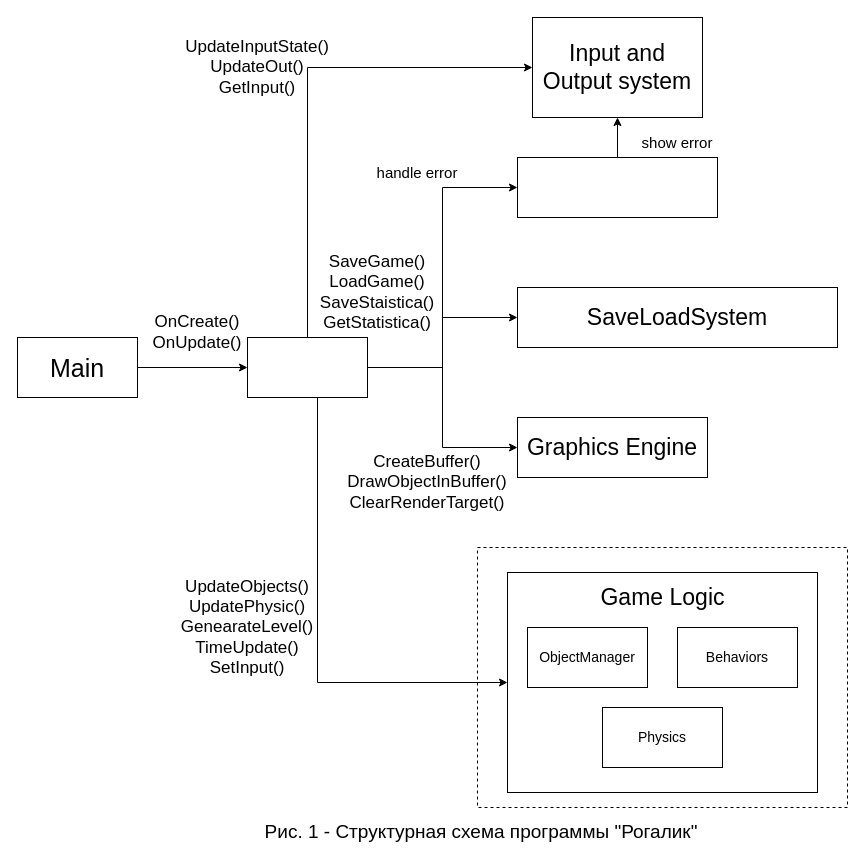
The diagram is 865 pixels wide and 865 high, and some of its shapes have lost their labels. Here are the shapes that lost their labels. From the top down, the centre of each, then its label:
the point at 617,187: Error Handler
the point at 307,367: Scene
